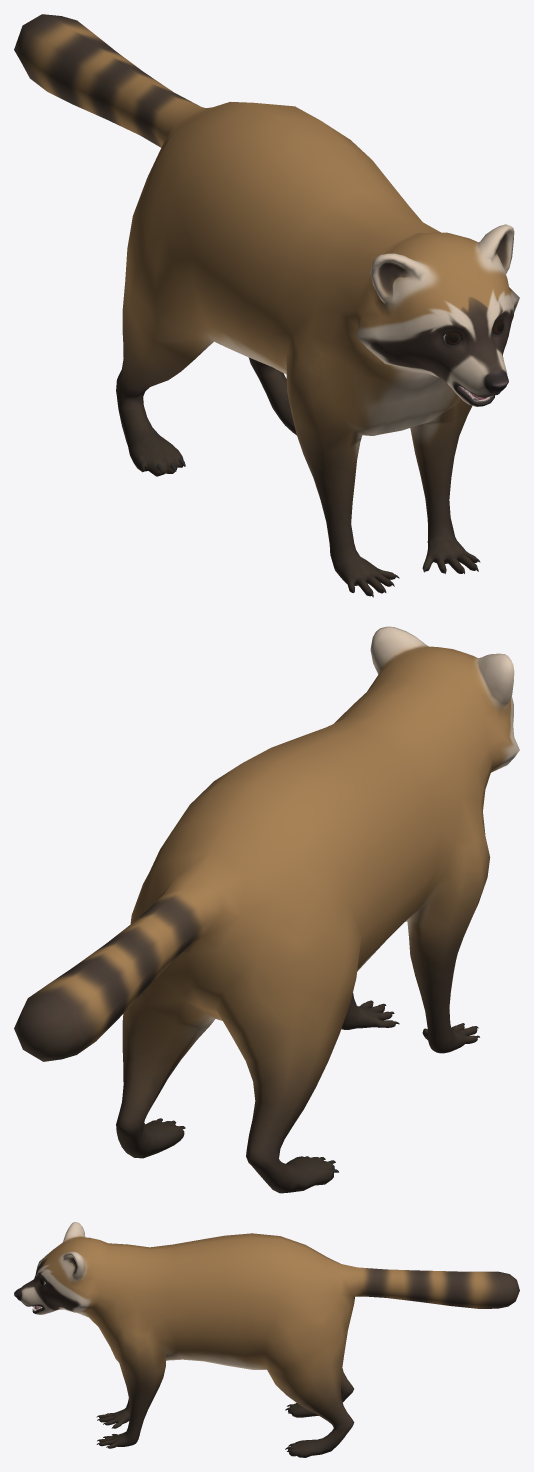
The model's file is Raccon_SK_0003.obj.
The picture shows the model from 3 angles, top to bottom: view 1: azimuth 30°, elevation 25°; view 2: azimuth 150°, elevation 25°; view 3: azimuth 270°, elevation 25°; orthographic projection. The views are drawn at different scales.
Visible parts, largest first — view 1: Raccon_SK_0003_M_Body; view 2: Raccon_SK_0003_M_Body; view 3: Raccon_SK_0003_M_Body.
Boxes of the visible parts, x1,y1,x2,y2 form: Raccon_SK_0003_M_Body: [14, 14, 519, 597]; Raccon_SK_0003_M_Body: [14, 626, 519, 1193]; Raccon_SK_0003_M_Body: [14, 1222, 519, 1457].
Size of the model in its own units: 0.2643 by 0.4423 by 1.03.
1 material, 1 textured.
